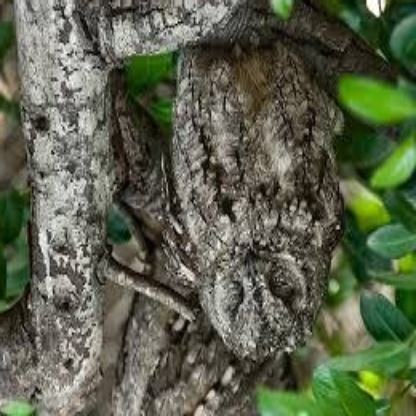Owl: (171, 47, 342, 351)
